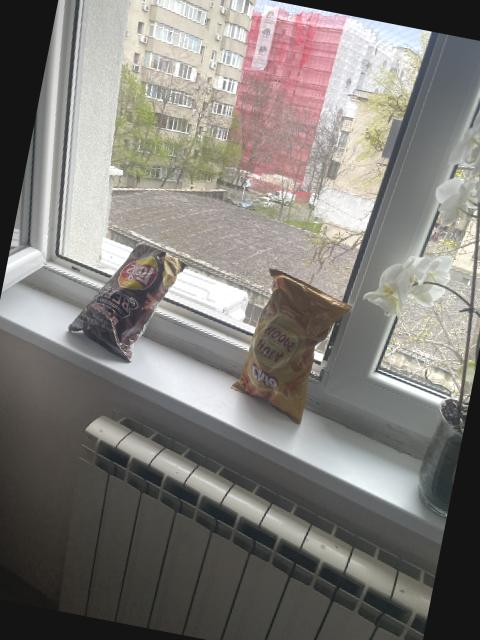Chio Hula Hoops Cheese 70g: (227, 267, 354, 428)
Lays Beef Grilled Ribs 125g: (66, 232, 184, 366)
